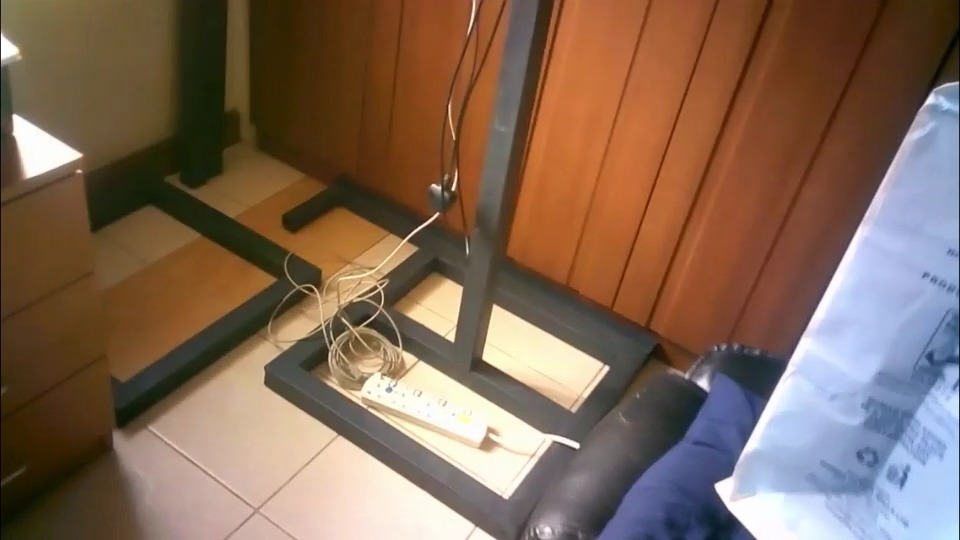maize_flour_green_label: (712, 83, 960, 537)
